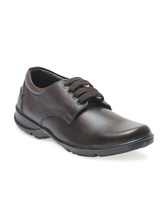shoes: (10, 61, 155, 154)
